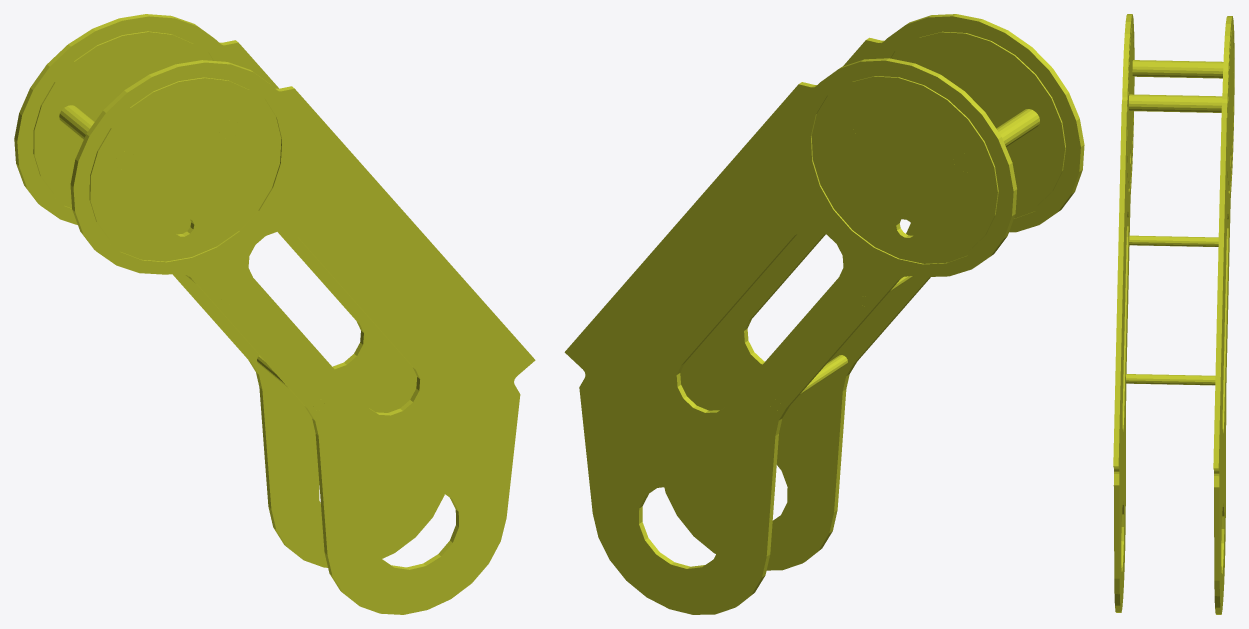
The picture shows the model from 3 angles, left to right: view 1: azimuth 30°, elevation 25°; view 2: azimuth 150°, elevation 25°; view 3: azimuth 270°, elevation 25°; orthographic projection. The views are drawn at different scales.
Parts seen in each view (by area): view 1: Link_2; view 2: Link_2; view 3: Link_2.
Part boxes in pixels (x1,y1,x2,y2): Link_2: (14, 14, 535, 614); Link_2: (564, 14, 1084, 614); Link_2: (1113, 14, 1234, 614).
Size of the model in its own units: 0.16 by 0.045 by 0.2.
